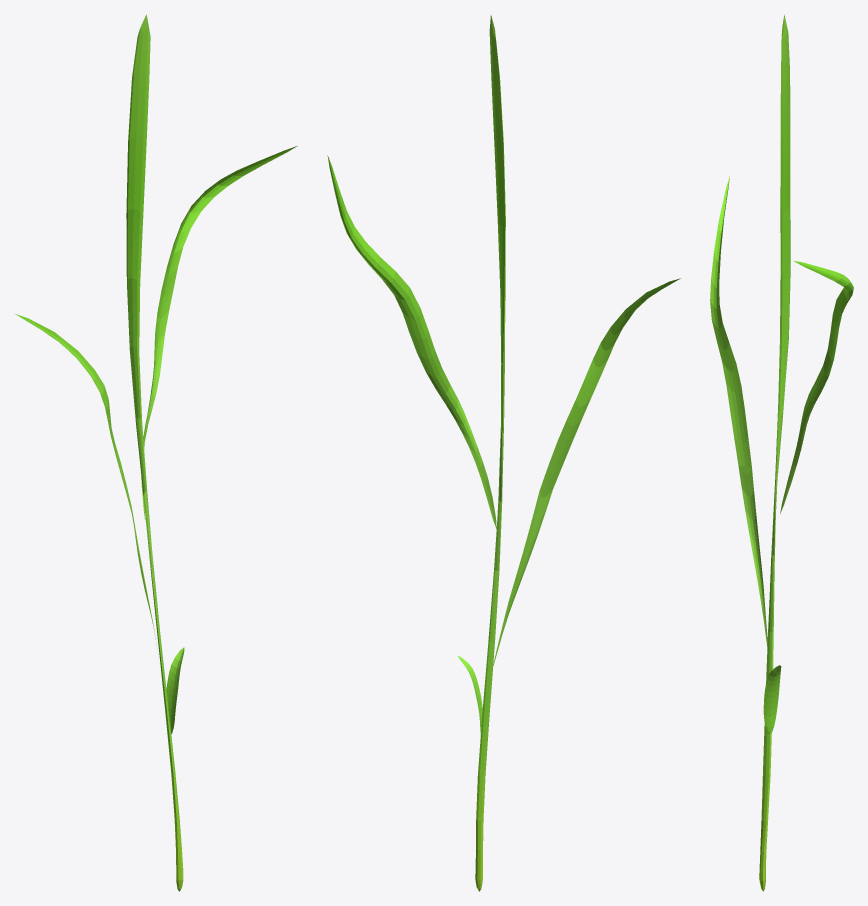
Rendered from Rice3_LOD.fbx.
3 renders of one model, left to right at view 1: azimuth 30°, elevation 25°; view 2: azimuth 150°, elevation 25°; view 3: azimuth 270°, elevation 25°, orthographic. The views are drawn at different scales.
Parts seen in each view (by area): view 1: Rice3_LOD0; view 2: Rice3_LOD0; view 3: Rice3_LOD0.
Part boxes in pixels (x1=…): Rice3_LOD0: x1=15, y1=14, x2=297, y2=891; Rice3_LOD0: x1=327, y1=15, x2=680, y2=891; Rice3_LOD0: x1=710, y1=14, x2=853, y2=891.
Size of what is drawn, in the model's own units: 79.14 by 209 by 31.48.
1 material, 1 textured.
